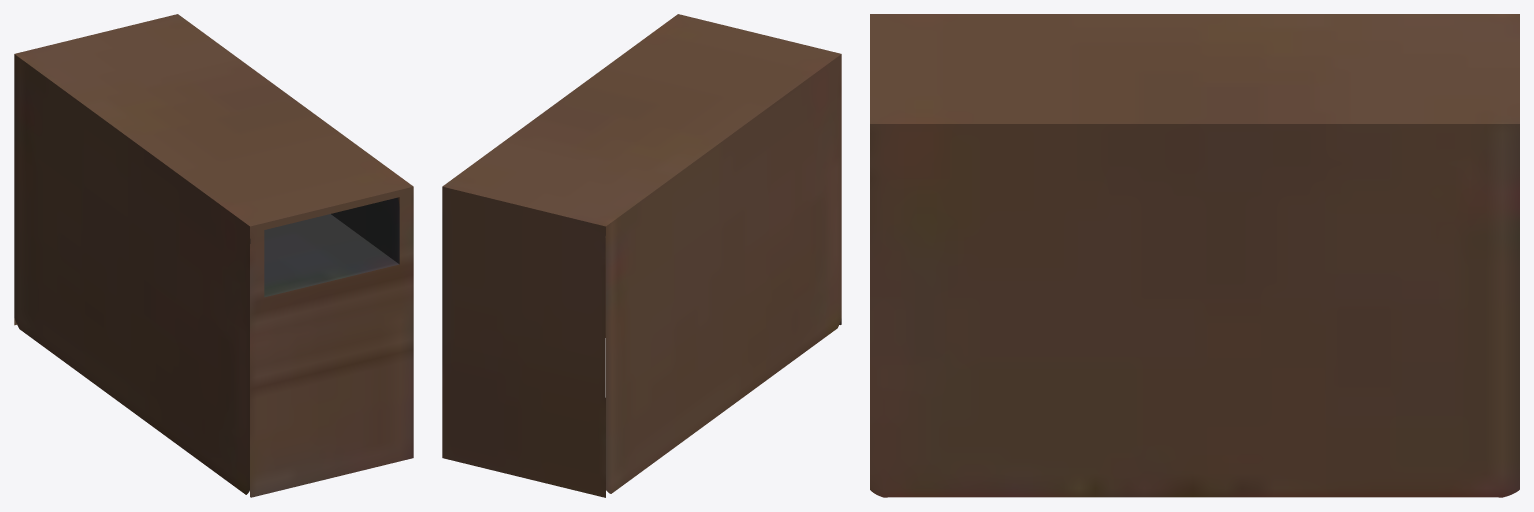
The model's file is desk-pedestal--1.gltf.
3 views of the same model, side by side, from view 1: azimuth 30°, elevation 25°; view 2: azimuth 150°, elevation 25°; view 3: azimuth 270°, elevation 25° (orthographic). The views are drawn at different scales.
Visible parts, largest first — view 1: Cabinet_1; view 2: Cabinet_1; view 3: Cabinet_1.
Part boxes in pixels (x1=…): Cabinet_1: x1=14, y1=14, x2=413, y2=497; Cabinet_1: x1=442, y1=14, x2=841, y2=497; Cabinet_1: x1=870, y1=14, x2=1519, y2=497.
Size of the model in its own units: 0.4355 by 0.6904 by 1.09.
Materials: 1 (1 with a texture image).
